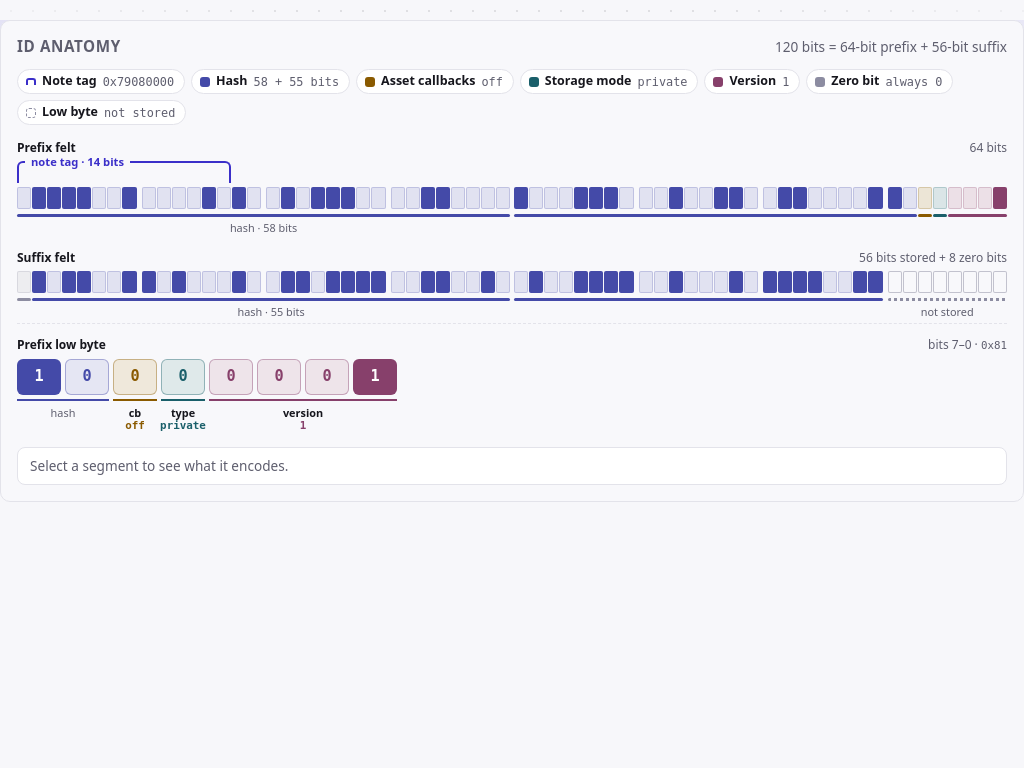
Test: AccountAnatomy › lights the 14 tag bits when hovering the bracket
The image size is (1024, 768).
Hover over the element with class "anat-bracket".
mouse_move(124, 172)  # box [17, 161, 231, 183]
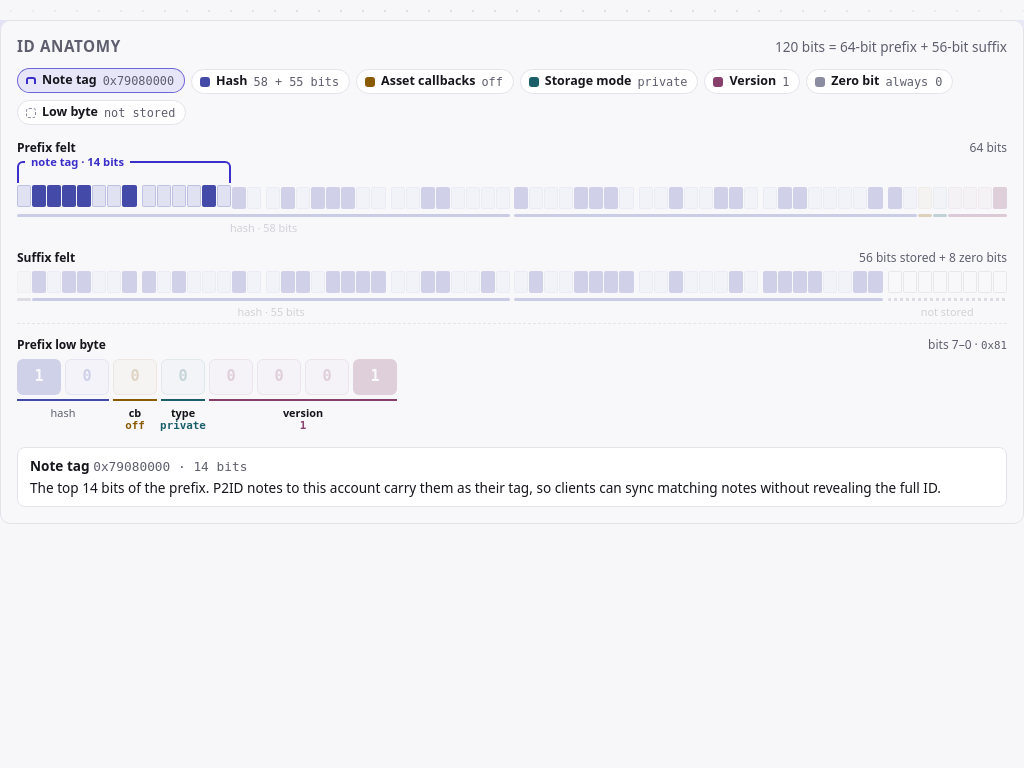
Expected: the element with class "anat-info" shows "top 14 bits", [30, 478, 941, 497]
